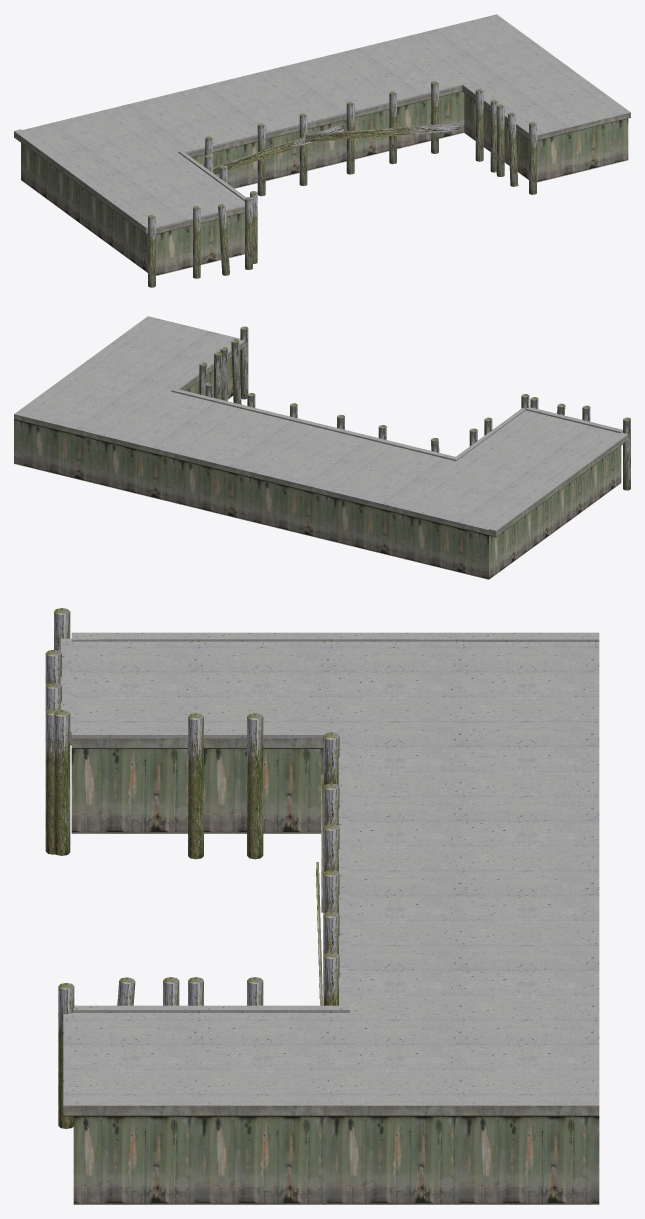
Rendered from warf.glb.
3 views of the same model, one above another, from view 1: azimuth 30°, elevation 25°; view 2: azimuth 150°, elevation 25°; view 3: azimuth 270°, elevation 25° (orthographic). The views are drawn at different scales.
Visible parts, largest first — view 1: WharfOne200; view 2: WharfOne200; view 3: WharfOne200.
Boxes of the visible parts, box(x1,y1,x2,y2) form: WharfOne200: box(14, 14, 630, 287); WharfOne200: box(14, 316, 630, 579); WharfOne200: box(45, 608, 599, 1204).
Size of what is drawn, in the model's own units: 45.16 by 6.62 by 22.46.
Materials: 3 (3 with a texture image).
